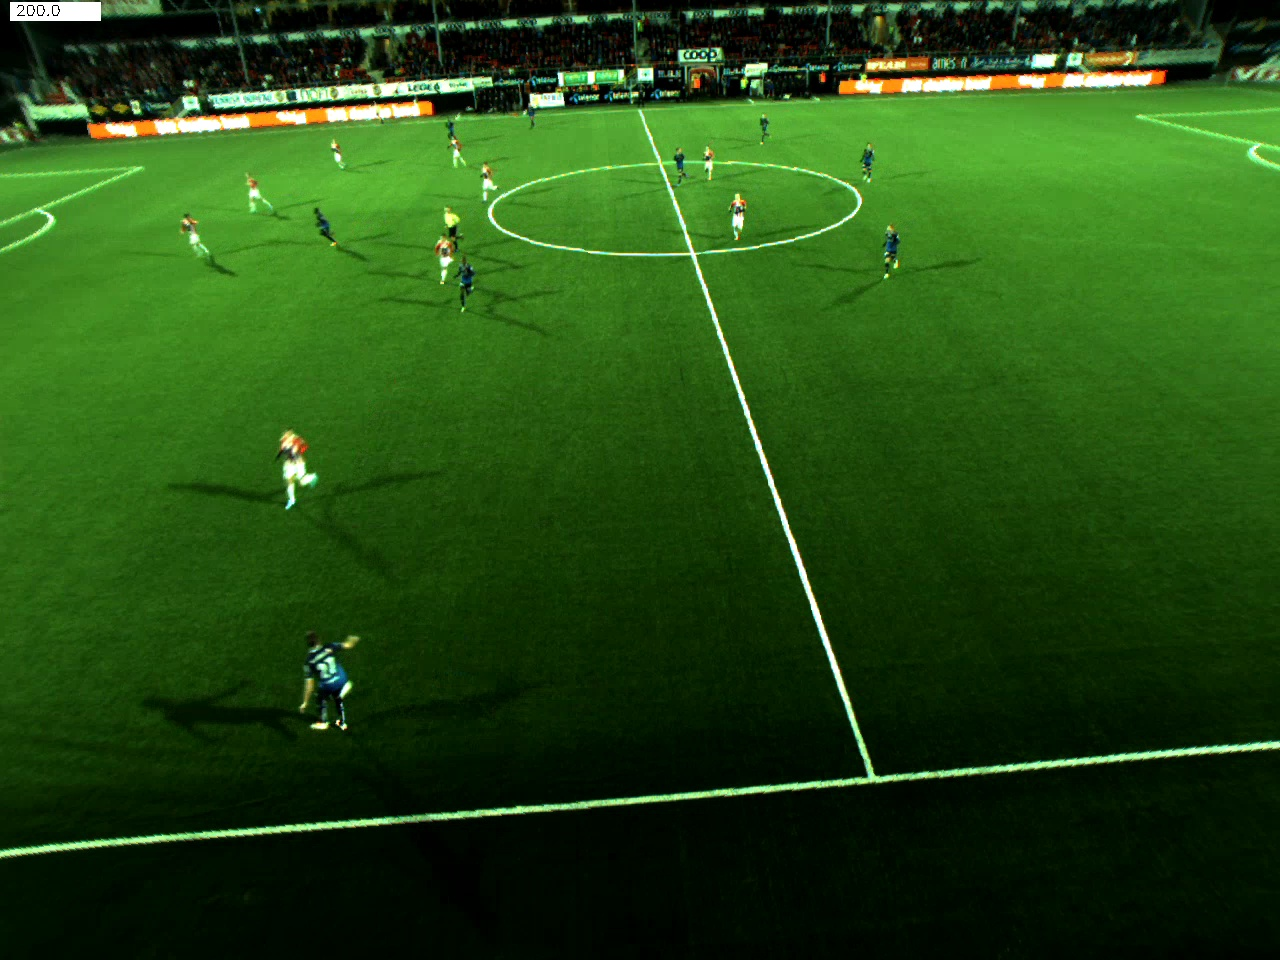blue: (289, 624, 377, 738), (303, 199, 345, 253), (455, 253, 489, 314), (855, 135, 880, 178), (883, 224, 903, 275), (666, 139, 689, 184), (755, 114, 778, 144), (444, 123, 462, 144)
red: (274, 425, 337, 523), (228, 167, 285, 223), (174, 209, 216, 260), (434, 231, 460, 285), (474, 159, 505, 202), (728, 188, 749, 249), (324, 135, 353, 177), (696, 139, 721, 184)
yellow: (435, 200, 470, 238)
